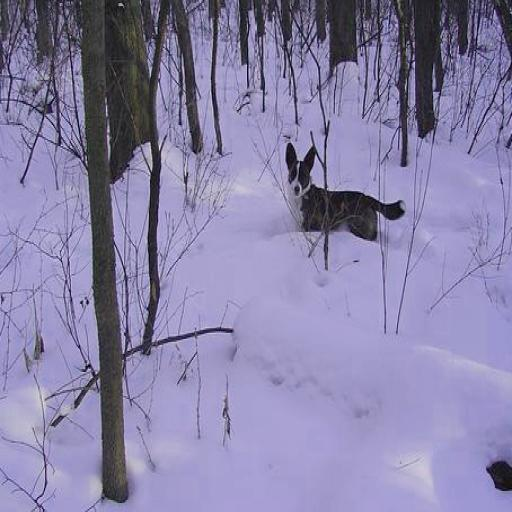dog_face: (288, 143, 314, 200)
